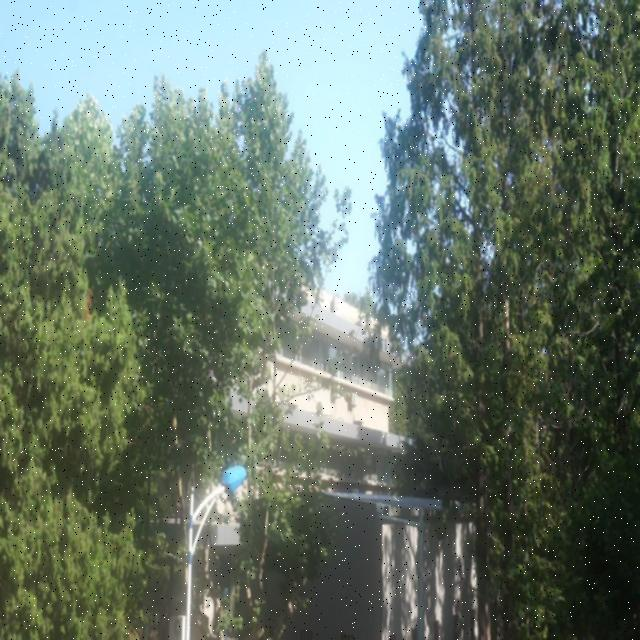UAV: (340, 350, 349, 356)
